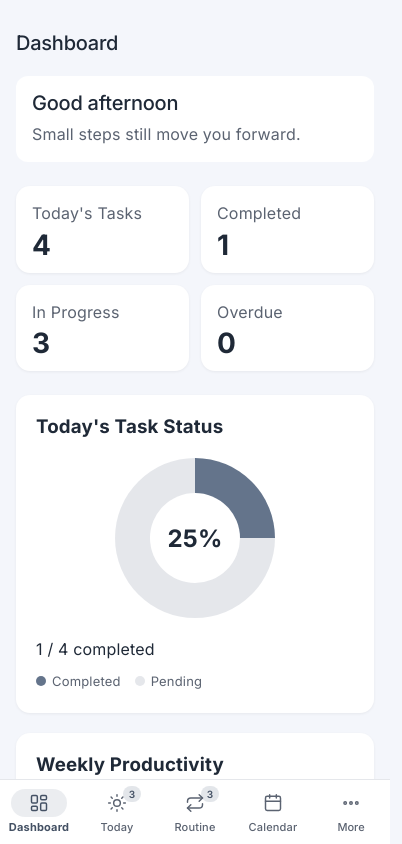
Test: App bottom navigation › closes the More menu when tapping outside of it
What coordinates should you click on to do the following:
click the button "More"
I would click on:
 (351, 812)
Its box is top-left (312, 780), bottom-right (390, 843).
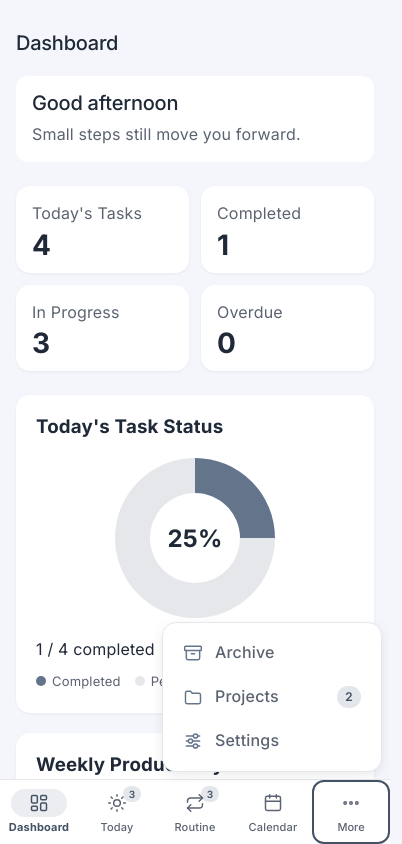
What coordinates should you click on to do the following:
click the heading "Dashboard"
I would click on:
 (67, 43)
Its box is top-left (16, 31), bottom-right (118, 55).
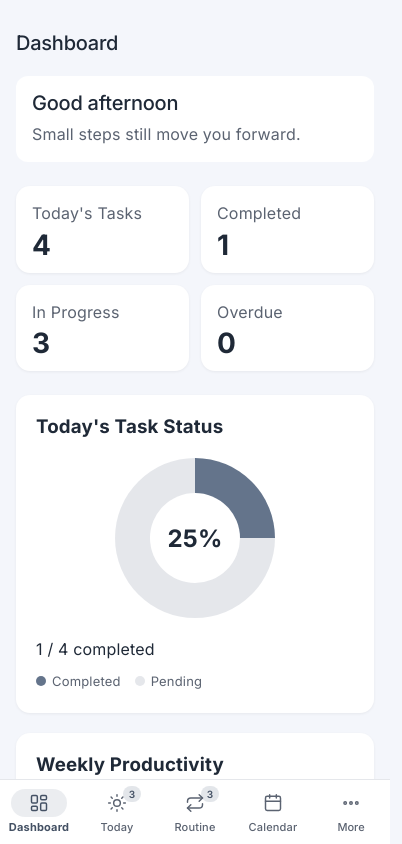
Check: the button "More" is collapsed, box top-left (312, 780), bottom-right (390, 843)
